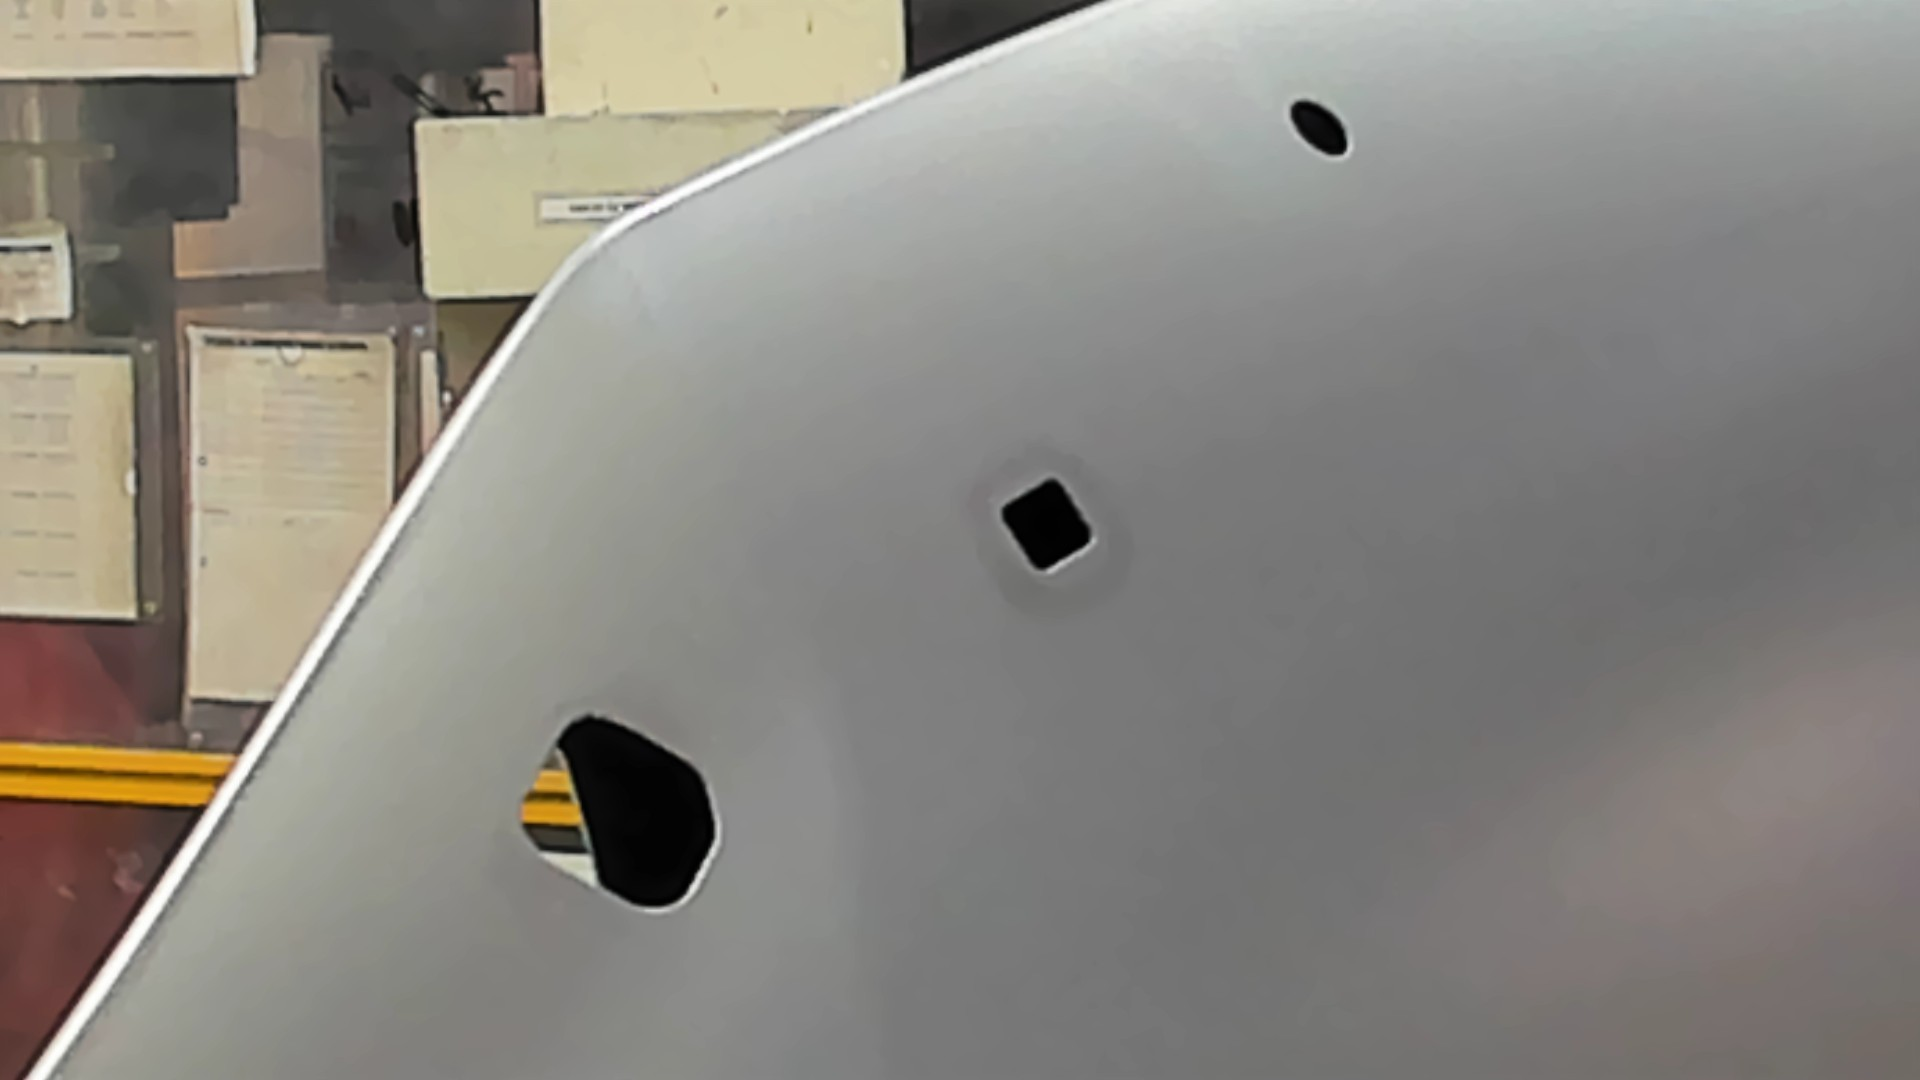chico: (1286, 94, 1352, 160)
grande: (516, 709, 723, 918)
mediano: (998, 473, 1098, 578)
